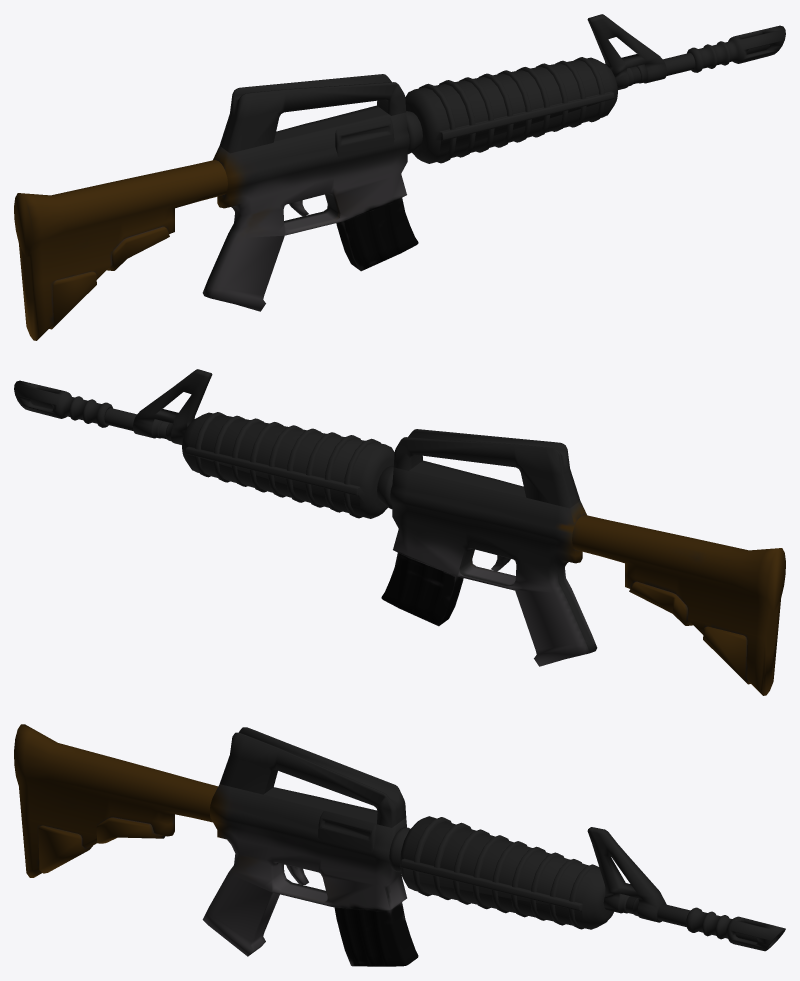
The picture shows the model from 3 angles, top to bottom: view 1: azimuth 30°, elevation 25°; view 2: azimuth 150°, elevation 25°; view 3: azimuth 330°, elevation 25°; orthographic projection.
Visible parts, largest first — view 1: Assault_Rifle_low; view 2: Assault_Rifle_low; view 3: Assault_Rifle_low.
Boxes of the visible parts, x1=… form: Assault_Rifle_low: x1=14, y1=14, x2=785, y2=340; Assault_Rifle_low: x1=14, y1=369, x2=785, y2=695; Assault_Rifle_low: x1=14, y1=724, x2=785, y2=966.
Size of the model in its own units: 492 by 135 by 47.59.
